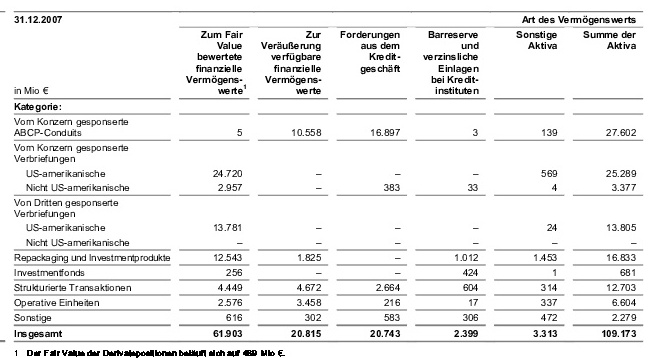table: (0, 0, 665, 358)
